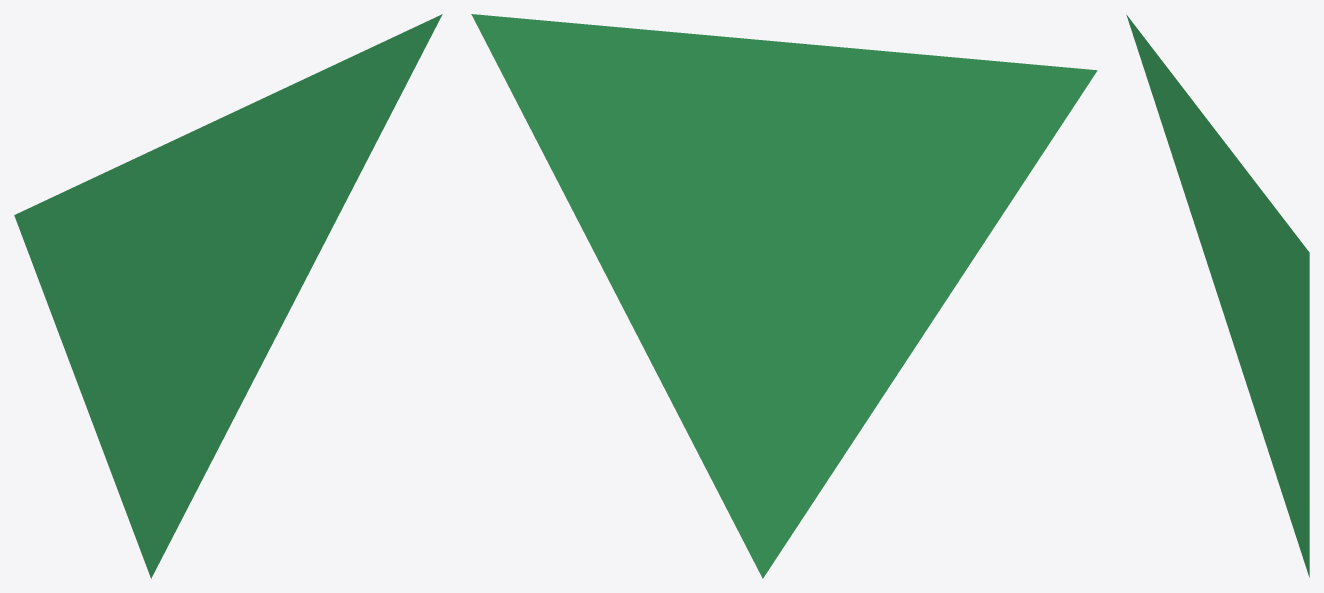
Rendered from 20_green.fbx.
The picture shows the model from 3 angles, left to right: view 1: azimuth 30°, elevation 25°; view 2: azimuth 150°, elevation 25°; view 3: azimuth 270°, elevation 25°; orthographic projection. The views are drawn at different scales.
Parts seen in each view (by area): view 1: 20_green; view 2: 20_green; view 3: 20_green.
Part boxes in pixels (x1,y1,x2,y2): 20_green: (14,14,442,578); 20_green: (471,14,1097,578); 20_green: (1126,14,1309,577).
Bounding box in the file's own units: 88.22 × 78.91 × 28.67.
